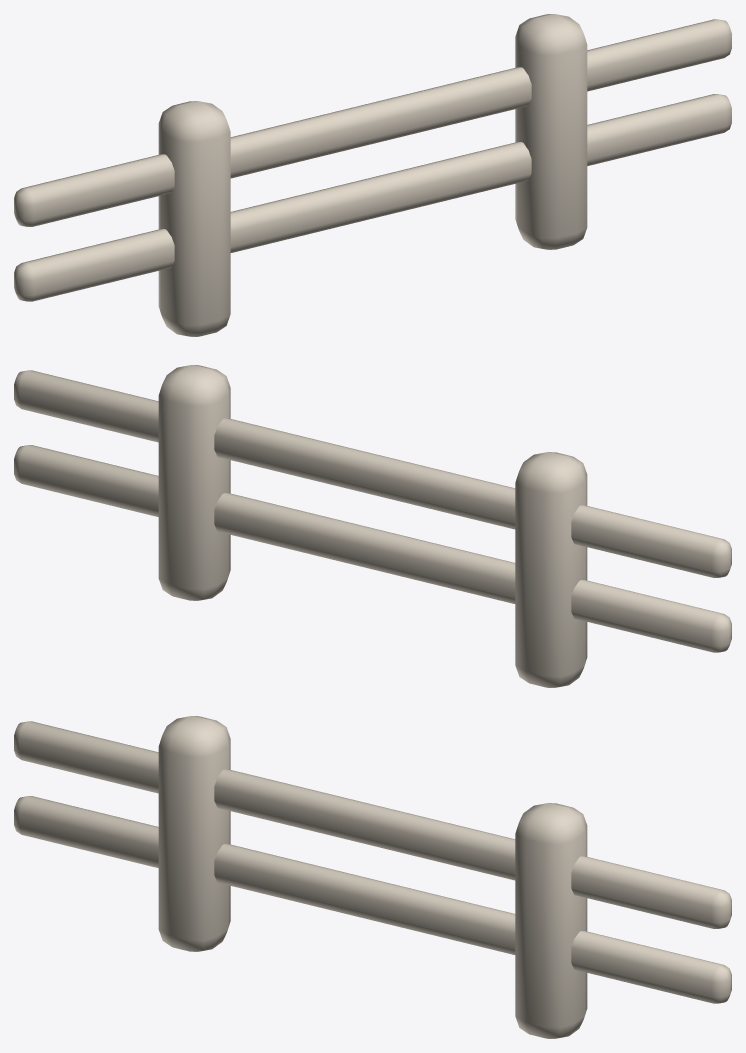
File: fence.glb
3 renders of one model, top to bottom at view 1: azimuth 30°, elevation 25°; view 2: azimuth 150°, elevation 25°; view 3: azimuth 330°, elevation 25°, orthographic.
Visible parts, largest first — view 1: fence; view 2: fence; view 3: fence.
Boxes of the visible parts, box(x1,y1,x2,y2) form: fence: box(14, 14, 731, 336); fence: box(14, 365, 731, 687); fence: box(14, 716, 731, 1038).
Size of the model in its own units: 2 by 0.6 by 0.16.
